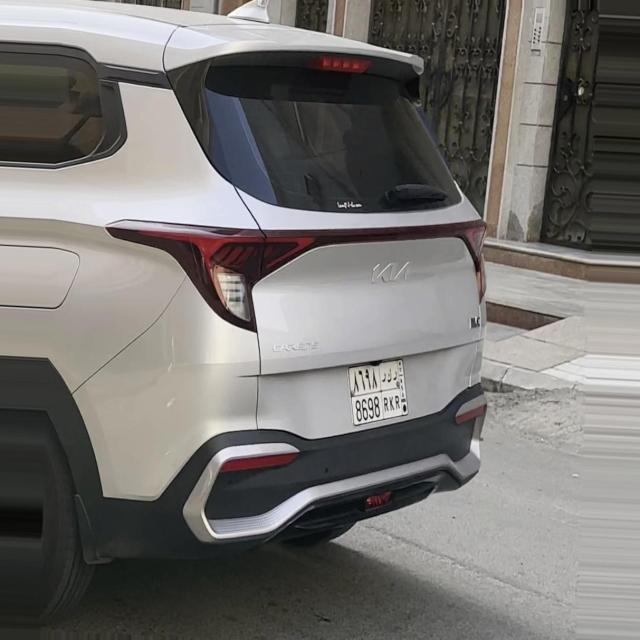Car-plate: (343, 348, 417, 435)
